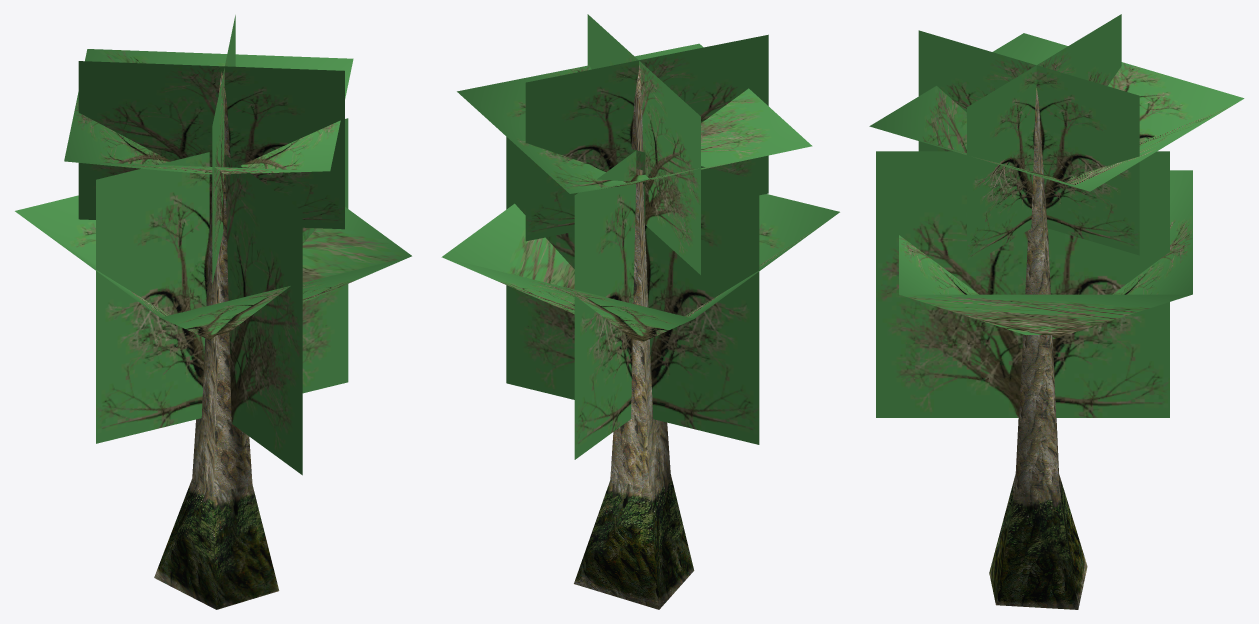
Rendered from decd_brown_l1.fbx.
3 views of the same model, side by side, from view 1: azimuth 30°, elevation 25°; view 2: azimuth 150°, elevation 25°; view 3: azimuth 270°, elevation 25° (orthographic).
Visible parts, largest first — view 1: mesh_node; view 2: mesh_node; view 3: mesh_node.
Part boxes in pixels (x1=…): mesh_node: x1=15, y1=15, x2=411, y2=609; mesh_node: x1=441, y1=14, x2=839, y2=609; mesh_node: x1=869, y1=14, x2=1244, y2=609.
Size of the model in its own units: 15.4 by 23.68 by 15.4.
